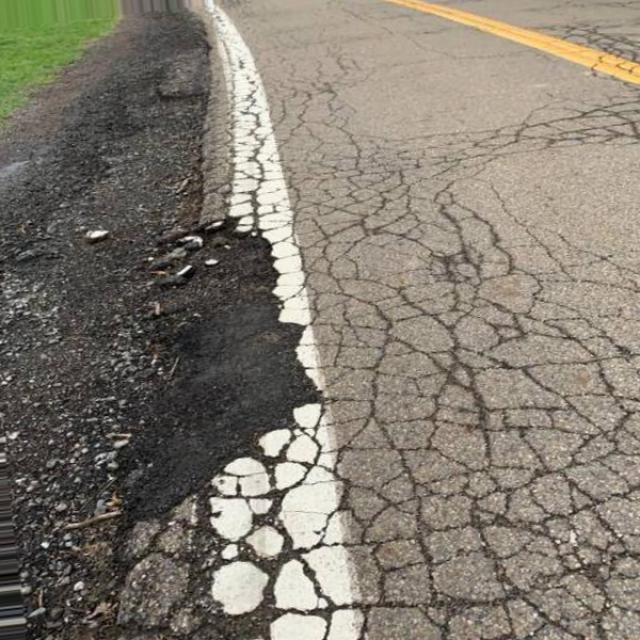Pinggir: (56, 222, 329, 567)
Retak Buaya: (142, 79, 640, 638)
